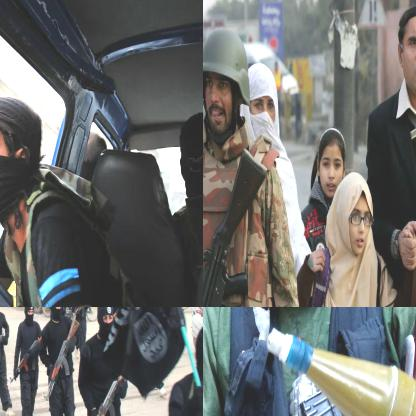rifle: (203, 146, 271, 306), (43, 317, 80, 405), (78, 373, 129, 415), (8, 332, 44, 386), (0, 332, 8, 376)
